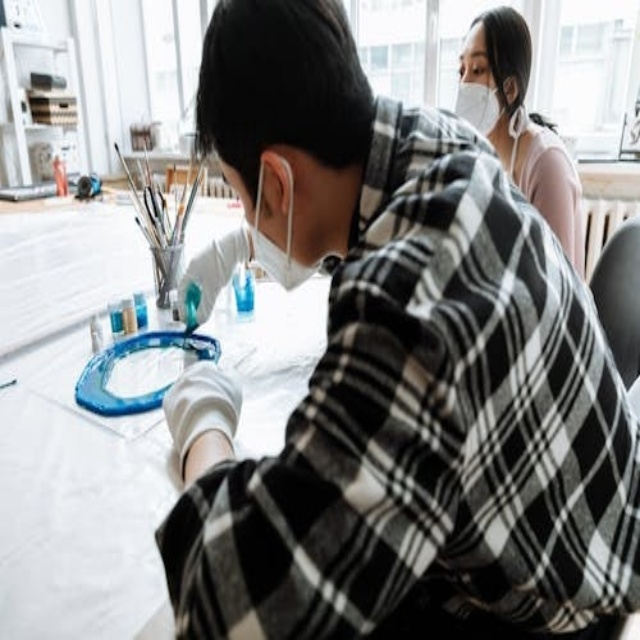Guantes: (162, 358, 244, 474), (177, 221, 253, 331)
Mascara: (249, 154, 326, 292), (454, 77, 503, 137)
Sin_gafas: (456, 46, 493, 83)
